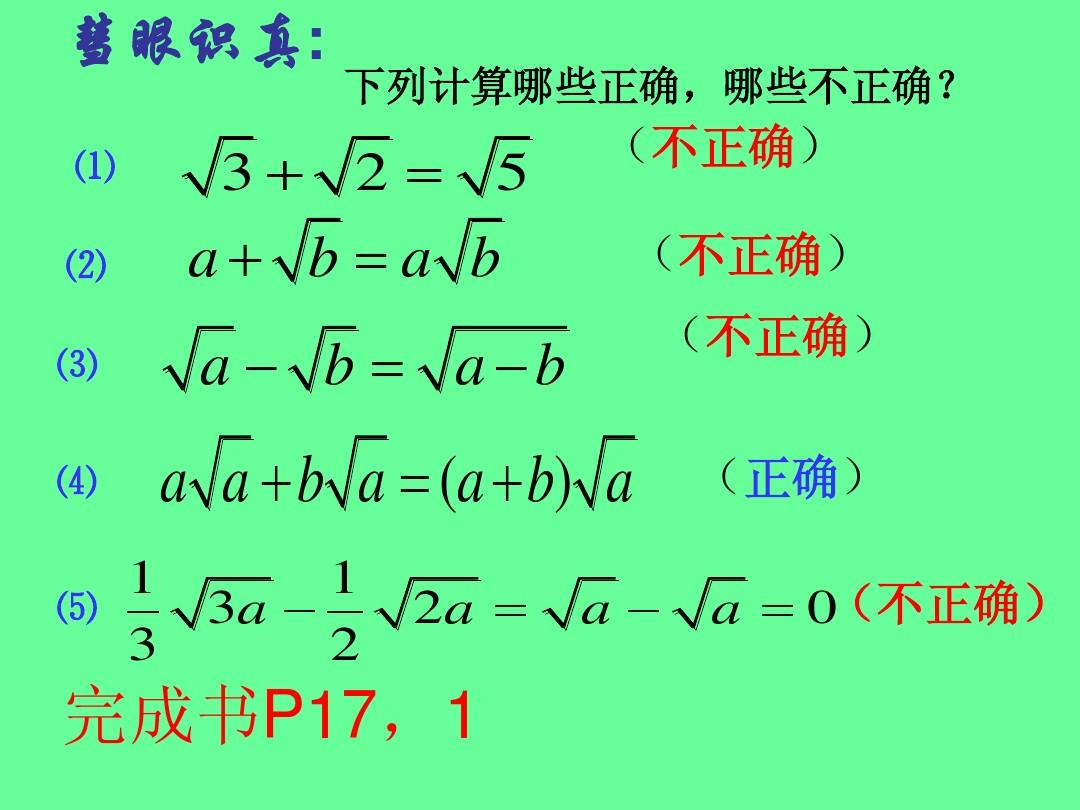division: (120, 604, 162, 620)
sqrt: (412, 322, 582, 397), (373, 572, 488, 631), (458, 126, 540, 200), (188, 431, 261, 514), (160, 321, 241, 395), (169, 573, 277, 628), (286, 322, 367, 394), (314, 131, 401, 196), (573, 433, 643, 511), (182, 128, 254, 203), (325, 431, 391, 510), (275, 208, 342, 281), (539, 574, 620, 632), (673, 574, 753, 631), (437, 215, 501, 284)
